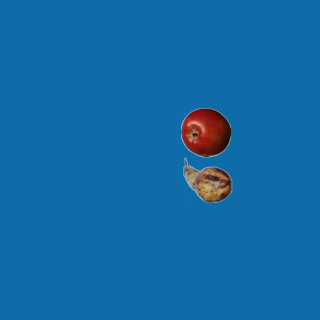Apple Braeburn: (180, 107, 230, 157)
Pear Abate: (182, 155, 232, 205)
